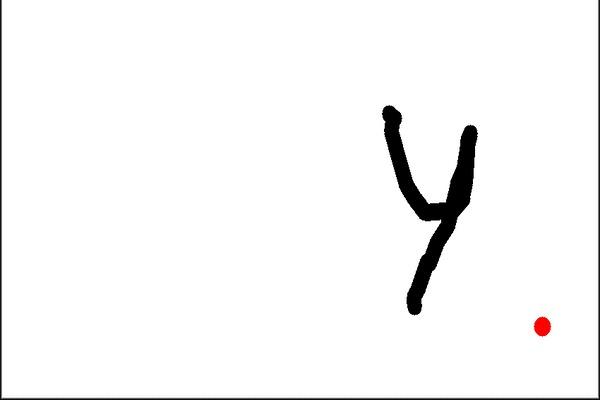Y: (371, 92, 491, 336)
